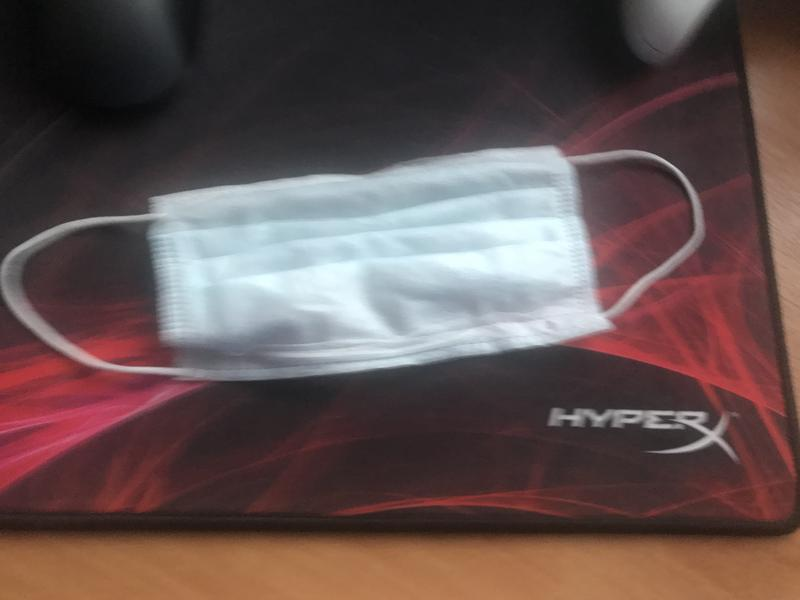medical_mask: (3, 144, 704, 380)
